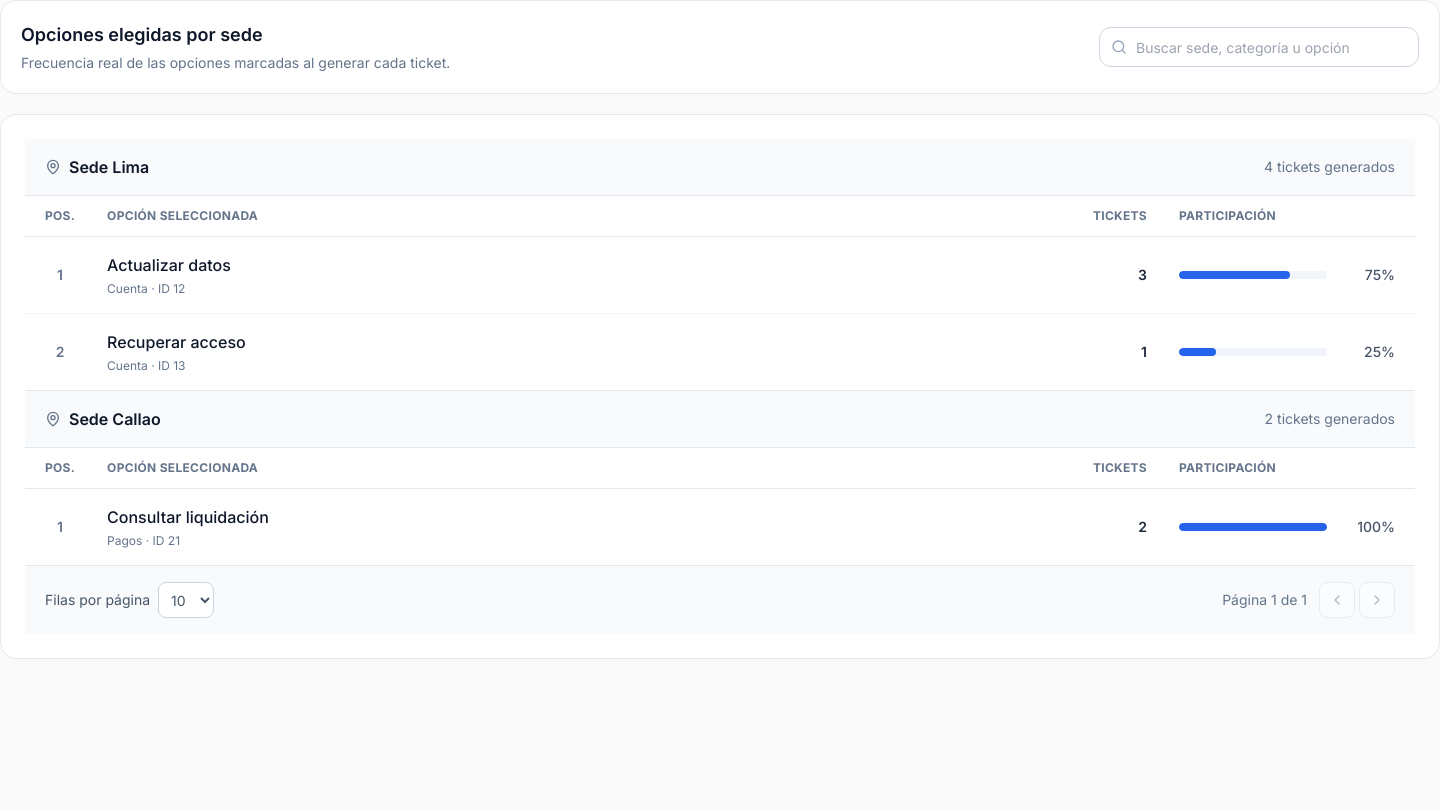
OptionInsightsPanel › usa el filtro principal de sede y permite buscar una opción
Type "acceso" into the field with placeholder "Buscar sede, categoría u opción".
click(1259, 47); type("acceso")  # box [1099,27,1419,67]
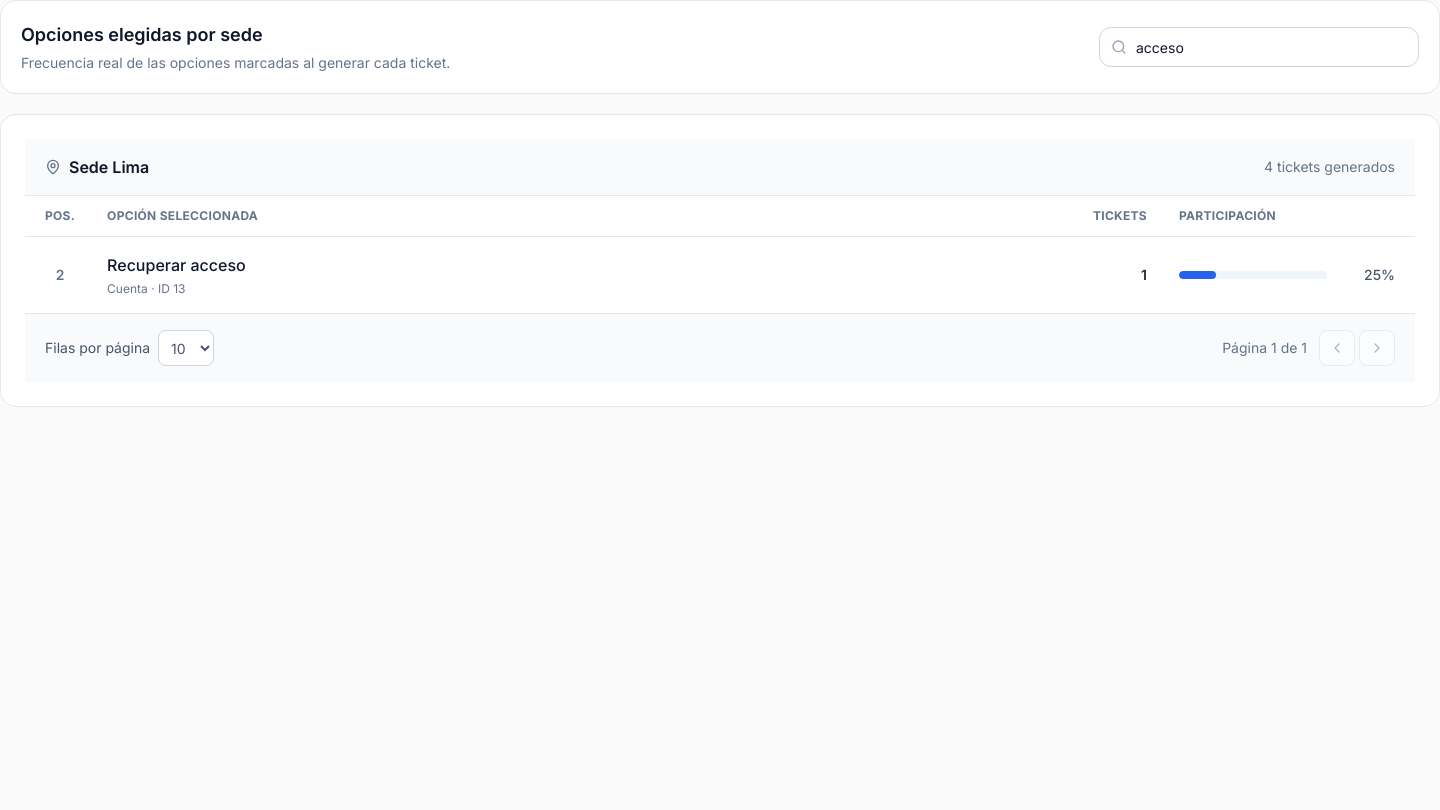
Check: the text "Recuperar acceso" is shown, box [107,255,246,275]
Check: the text "Consultar liquidación" is gone
